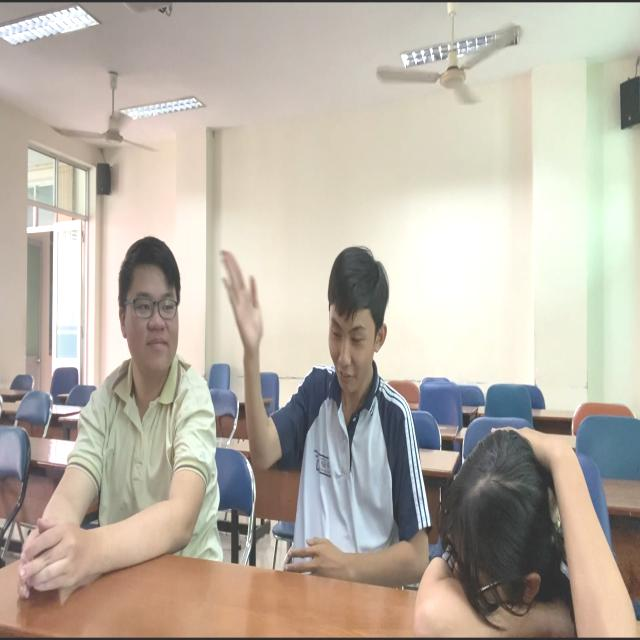raise_hand: (224, 240, 422, 612)
sleep: (415, 409, 640, 640)
